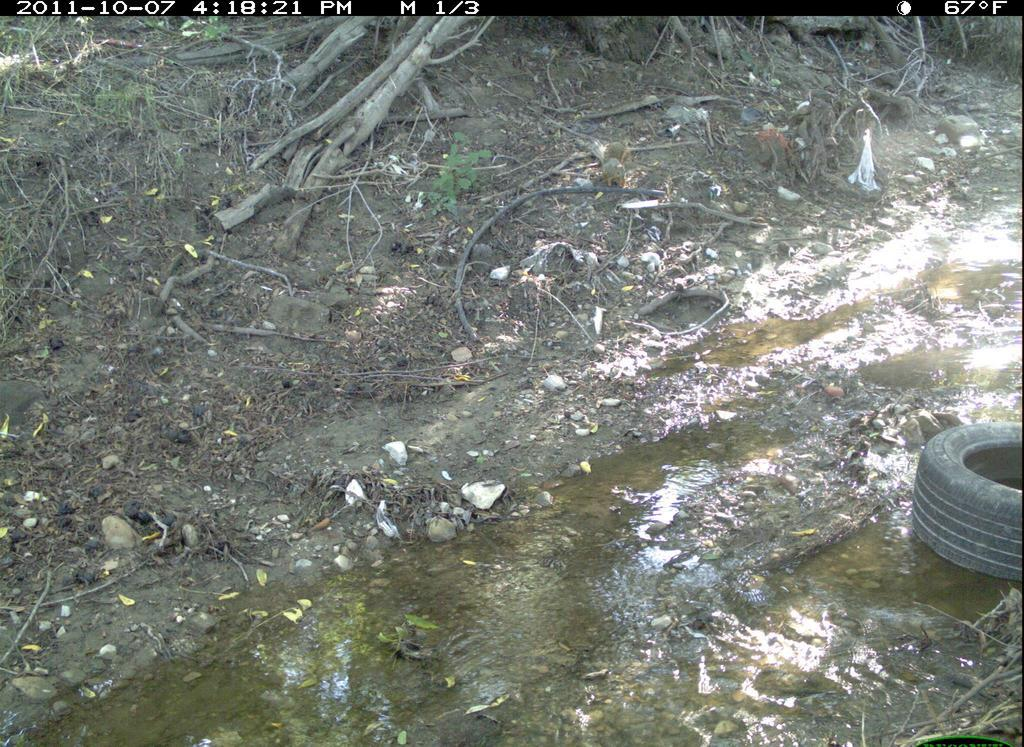squirrel: (597, 131, 639, 196)
